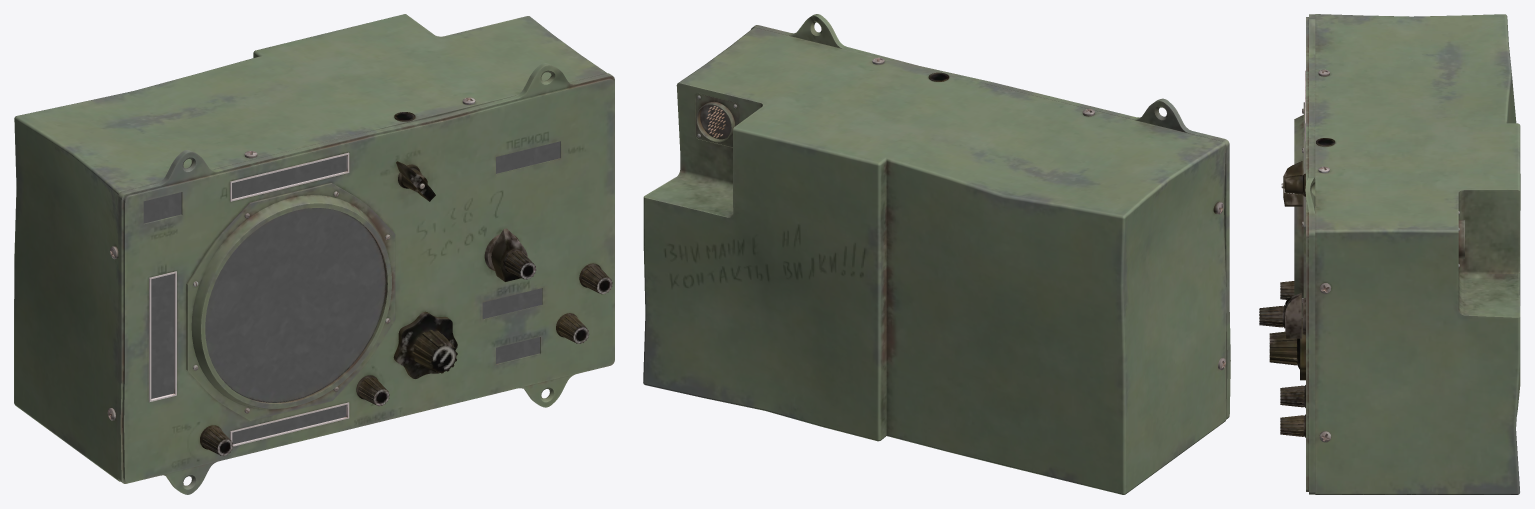
File: ph_vintage_spacecraft_instrument.glb
3 renders of one model, left to right at view 1: azimuth 30°, elevation 25°; view 2: azimuth 150°, elevation 25°; view 3: azimuth 270°, elevation 25°, orthographic. The views are drawn at different scales.
Parts seen in each view (by area): view 1: vintage_spacecraft_instrument; view 2: vintage_spacecraft_instrument; view 3: vintage_spacecraft_instrument.
Part boxes in pixels (<box>): vintage_spacecraft_instrument: <box>14,14,614,494</box>; vintage_spacecraft_instrument: <box>643,14,1230,494</box>; vintage_spacecraft_instrument: <box>1259,14,1520,494</box>.
Bounding box in the file's own units: 0.4103 × 0.2693 × 0.2044.
2 materials, 2 textured.
